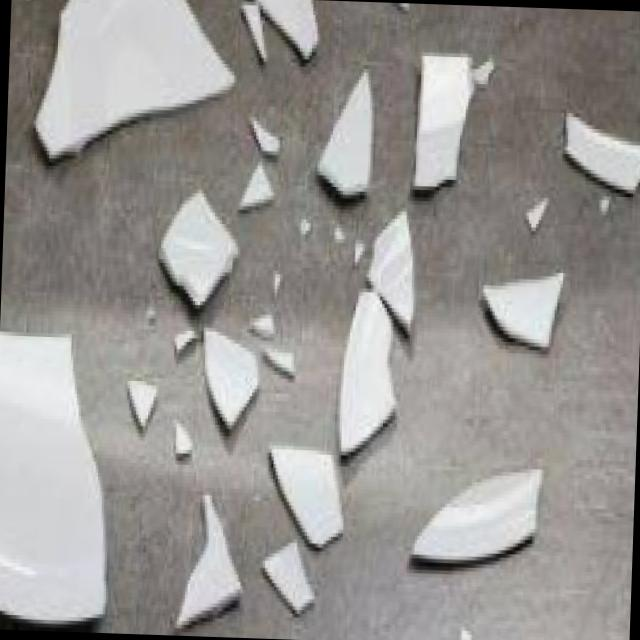PecahanKaca: (411, 457, 547, 566), (156, 183, 242, 310), (316, 63, 378, 199), (480, 262, 568, 350)
